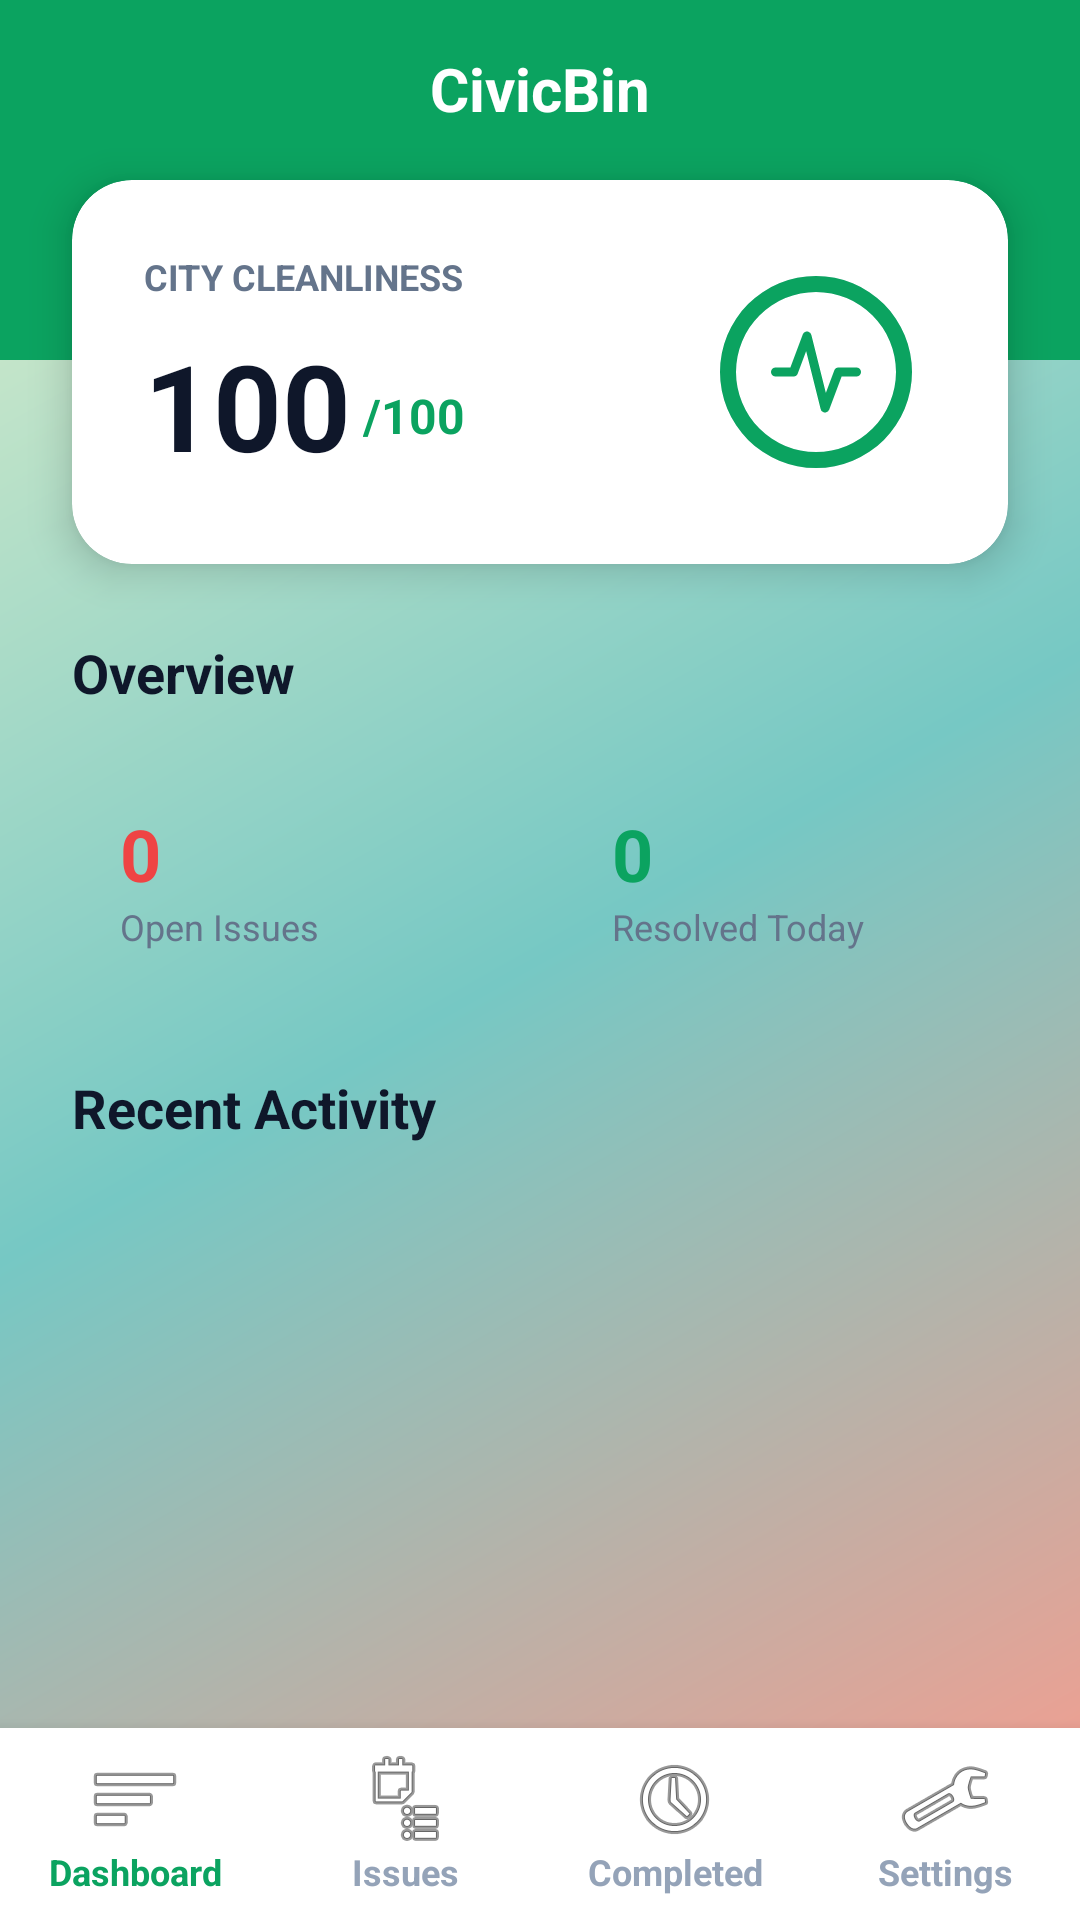

Named icons in this screenshot (1080w x 1920h) and their bounding boxes, BBox(x1, y1, x2, y2):
pulse: BBox(771, 331, 861, 413)
